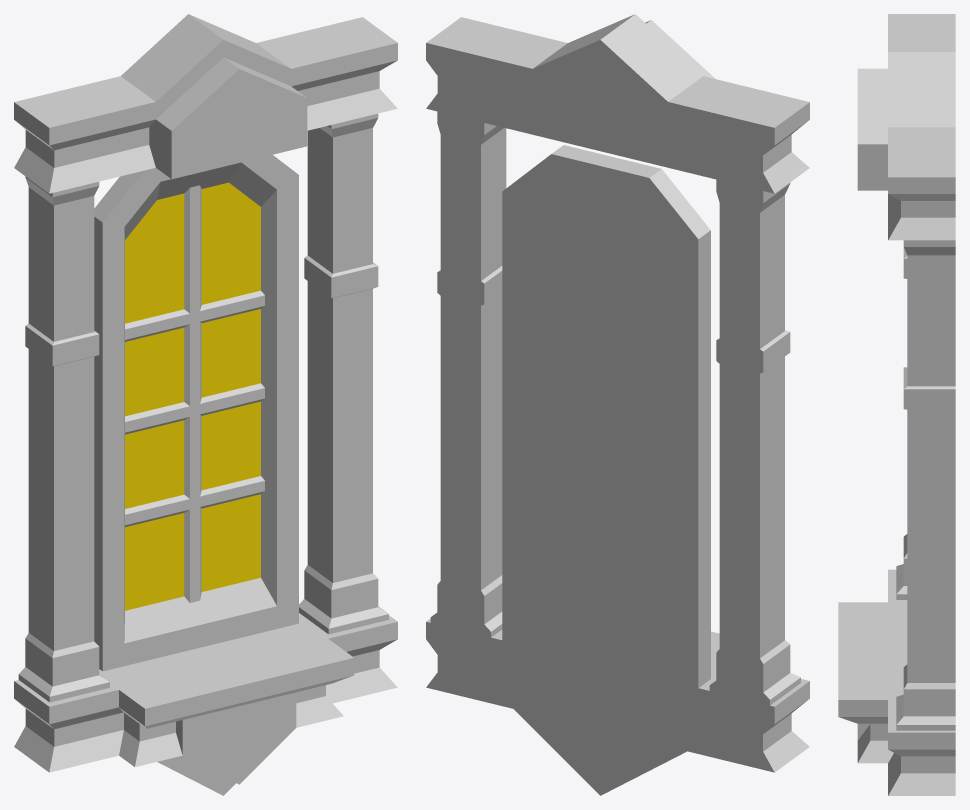
Rendered from Dressing.fbx.
The picture shows the model from 3 angles, left to right: view 1: azimuth 30°, elevation 25°; view 2: azimuth 150°, elevation 25°; view 3: azimuth 270°, elevation 25°; orthographic projection. The views are drawn at different scales.
Parts seen in each view (by area): view 1: Prop_Window_Wall_Dressing_Castle_Dungeon_Stone_01.001, Prop_Window_Wall_Dressing_Castle_Dungeon_Stone_01; view 2: Prop_Window_Wall_Dressing_Castle_Dungeon_Stone_01.001; view 3: Prop_Window_Wall_Dressing_Castle_Dungeon_Stone_01.001.
Boxes of the visible parts, <box> form: Prop_Window_Wall_Dressing_Castle_Dungeon_Stone_01.001: <box>14,14,397,795</box>; Prop_Window_Wall_Dressing_Castle_Dungeon_Stone_01: <box>125,182,260,610</box>; Prop_Window_Wall_Dressing_Castle_Dungeon_Stone_01.001: <box>426,14,809,795</box>; Prop_Window_Wall_Dressing_Castle_Dungeon_Stone_01.001: <box>838,14,955,795</box>.
Bounding box in the file's own units: 91.52 × 190 × 27.85.
